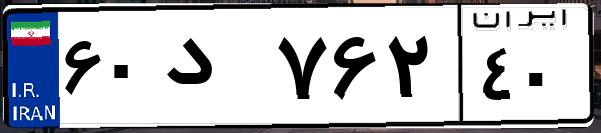0: (525, 38, 570, 115), (110, 28, 158, 98)
2: (385, 28, 445, 110)
4: (475, 38, 525, 113)
6: (330, 28, 385, 110), (57, 26, 110, 100)
7: (270, 28, 330, 110)
د: (158, 20, 270, 120)
